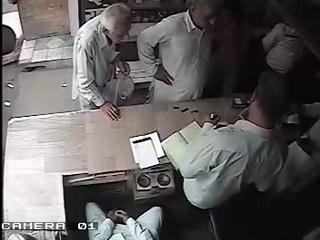Normal: (170, 70, 296, 232), (136, 0, 225, 104), (72, 3, 134, 122), (85, 202, 163, 239)
